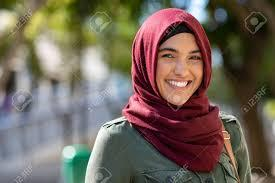scarf-kerchief: (121, 3, 236, 179), (161, 28, 198, 104)
